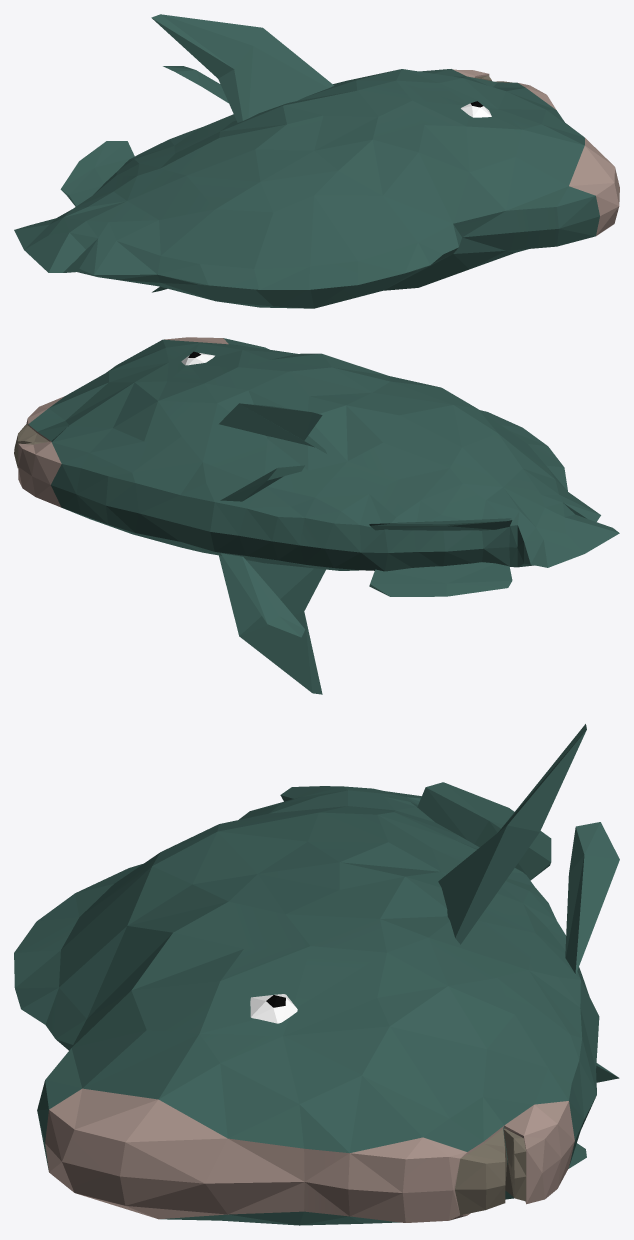
File: Parrotfish.glb
The picture shows the model from 3 angles, top to bottom: view 1: azimuth 30°, elevation 25°; view 2: azimuth 150°, elevation 25°; view 3: azimuth 270°, elevation 25°; orthographic projection. The views are drawn at different scales.
Visible parts, largest first — view 1: Parrotfish; view 2: Parrotfish; view 3: Parrotfish.
Part boxes in pixels (left/top/right/bottom): Parrotfish: left=14, top=14, right=619, bottom=308; Parrotfish: left=14, top=337, right=619, bottom=694; Parrotfish: left=14, top=724, right=619, bottom=1225.
Bounding box in the file's own units: 1.59 × 0.7808 × 1.
Materials: 1 (1 with a texture image).
